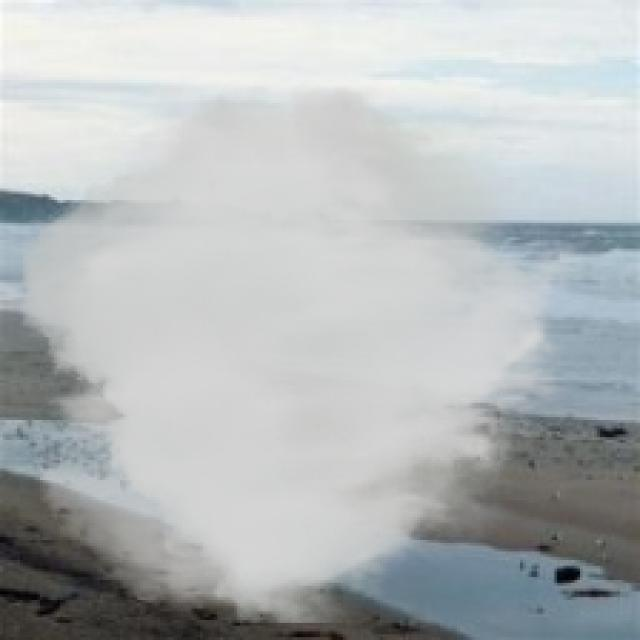smoke: (20, 77, 586, 623)
